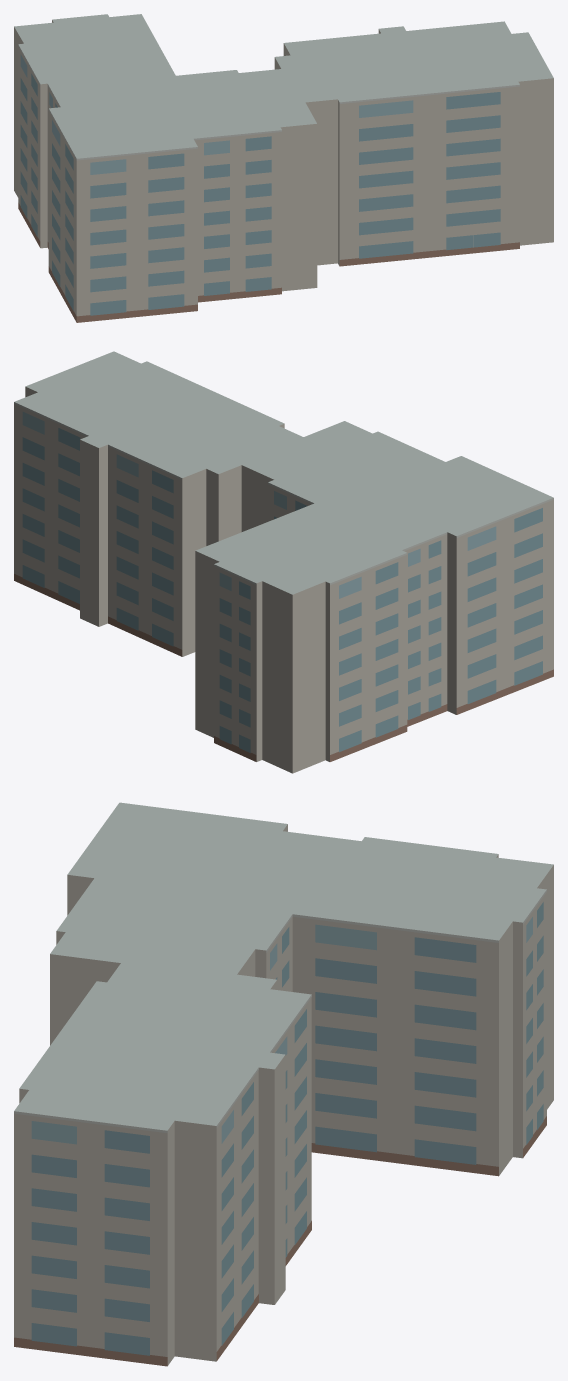
Rendered from survey-upis-32859678.glb.
3 renders of one model, top to bottom at view 1: azimuth 30°, elevation 25°; view 2: azimuth 150°, elevation 25°; view 3: azimuth 270°, elevation 25°, orthographic. The views are drawn at different scales.
Visible parts, largest first — view 1: survey-upis-32859678.tmp; view 2: survey-upis-32859678.tmp; view 3: survey-upis-32859678.tmp.
Boxes of the visible parts, x1=… form: survey-upis-32859678.tmp: x1=14, y1=14, x2=553, y2=322; survey-upis-32859678.tmp: x1=14, y1=351, x2=553, y2=773; survey-upis-32859678.tmp: x1=14, y1=802, x2=553, y2=1366.
Size of the model in its own units: 70.06 by 23.45 by 48.69.
